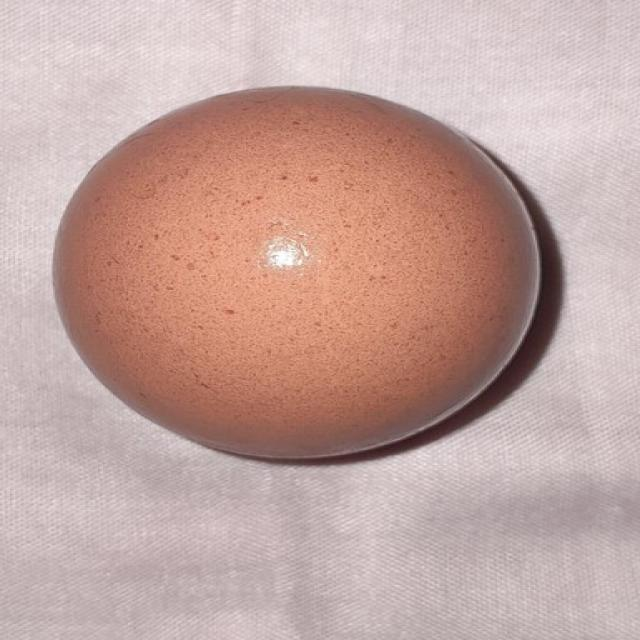unfresh: (43, 63, 543, 474)
